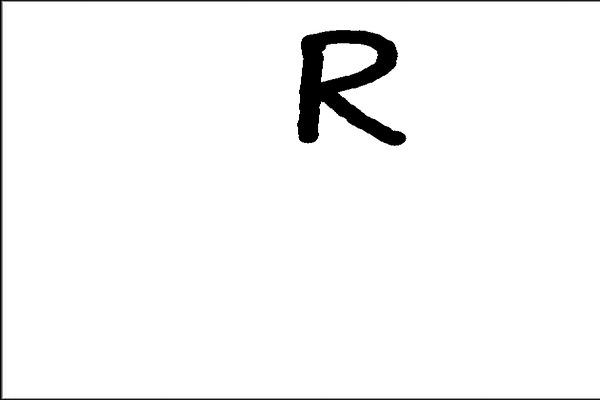R: (286, 19, 415, 155)
